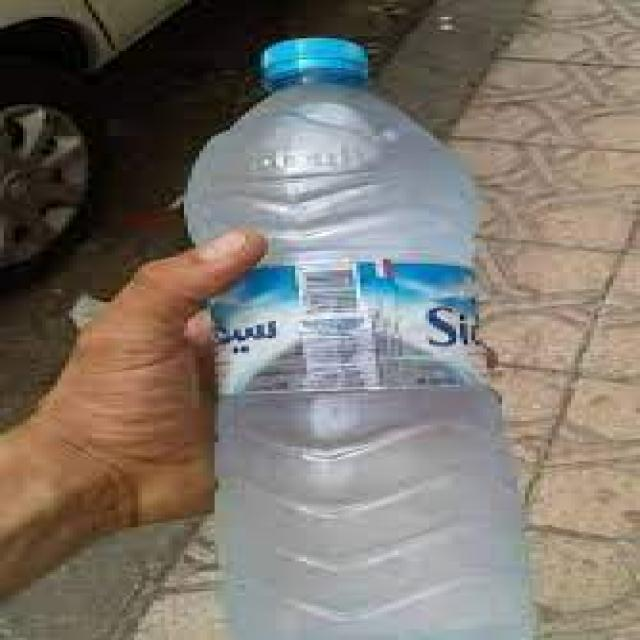Flask: (188, 38, 571, 640)
